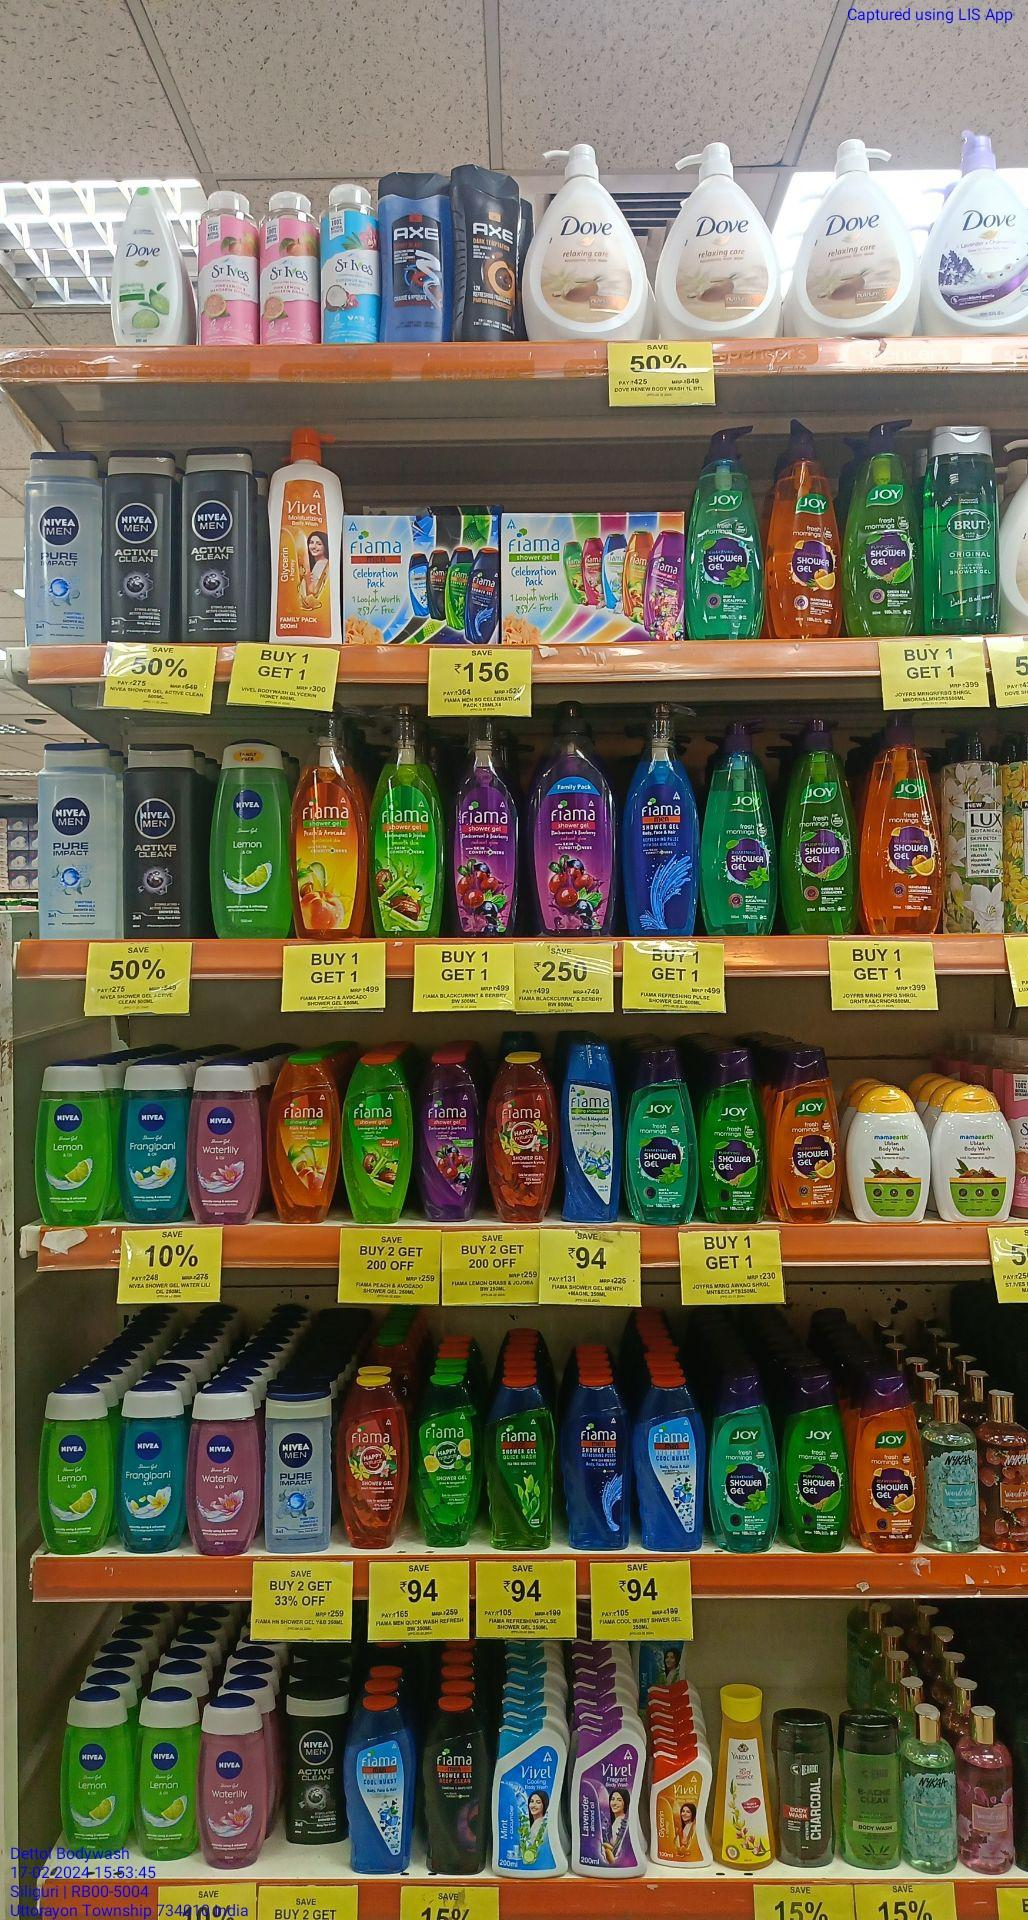Fiama_Shower_Gel_Lemongrass_and_Jojoba_250ML: (343, 1055, 407, 1224)
Fiama_Shower_Gel_Peach_and_Avocado_250ML: (268, 1055, 336, 1224)
Joy_Shower_Gel_Mandarin_and_Lemongrass_250ML: (855, 1373, 923, 1554)
Joy_Shower_Gel_Mint_and_Eucalyptus_250ML: (708, 1368, 781, 1552), (626, 1046, 699, 1224)
Nivea_Shower_Gel_Frangipani_and_Oil_250ML: (119, 1064, 185, 1223), (118, 1392, 181, 1550)
Nivea_Shower_Gel_Lemon_and_Oil_250ML: (36, 1067, 110, 1228), (43, 1384, 109, 1557), (62, 1699, 131, 1857), (136, 1695, 195, 1862)
Nivea_Shower_Gel_Waterlily_and_Oil_250ML: (185, 1392, 259, 1553), (192, 1060, 259, 1219), (206, 1704, 263, 1867)
